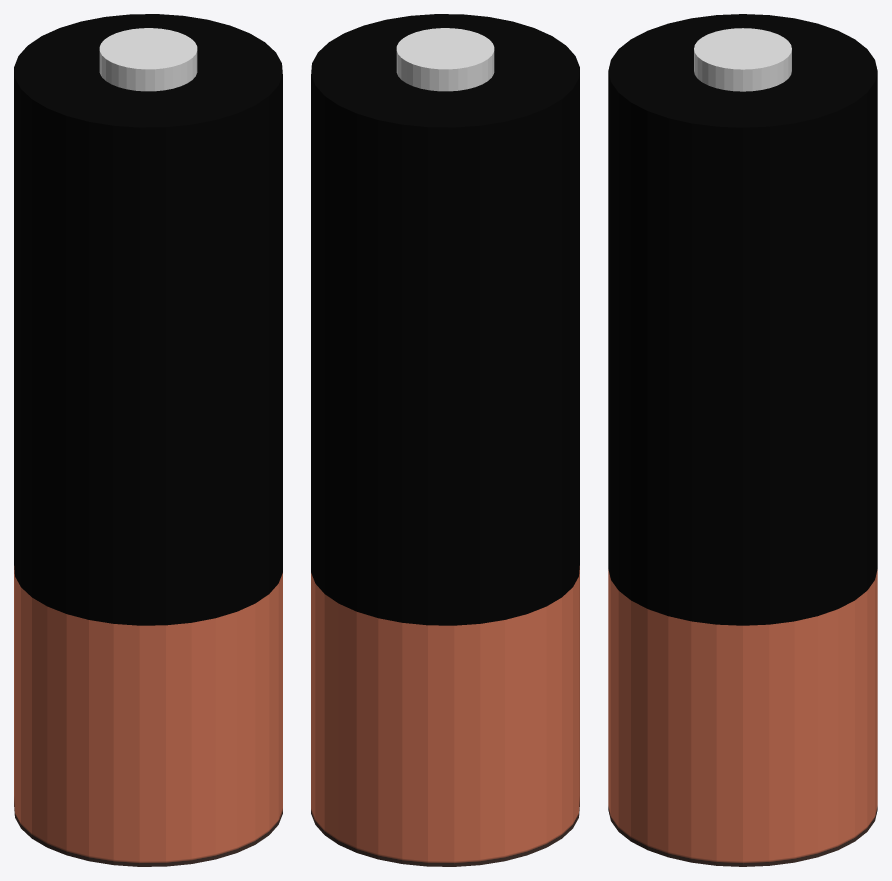
File: pilha_final.obj
The picture shows the model from 3 angles, left to right: view 1: azimuth 30°, elevation 25°; view 2: azimuth 150°, elevation 25°; view 3: azimuth 270°, elevation 25°; orthographic projection.
Visible parts, largest first — view 1: Cylinder; view 2: Cylinder; view 3: Cylinder.
Part boxes in pixels (x1,y1,x2,y2): Cylinder: [14, 14, 282, 866]; Cylinder: [311, 14, 579, 866]; Cylinder: [608, 14, 877, 866].
Size of the model in its own units: 2 by 6.24 by 2.
Materials: 1 (1 with a texture image).
